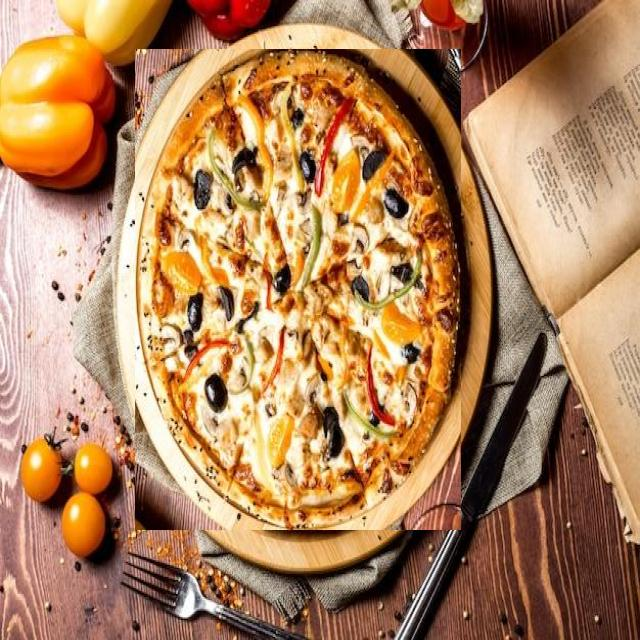olive: (322, 121, 345, 173), (204, 166, 228, 205), (384, 360, 408, 390), (194, 369, 210, 408), (185, 211, 201, 249), (188, 247, 204, 285), (232, 407, 256, 432), (274, 284, 292, 315), (219, 258, 234, 293), (300, 397, 316, 426), (402, 216, 420, 236), (370, 151, 384, 174)
pizza: (135, 49, 461, 530)
